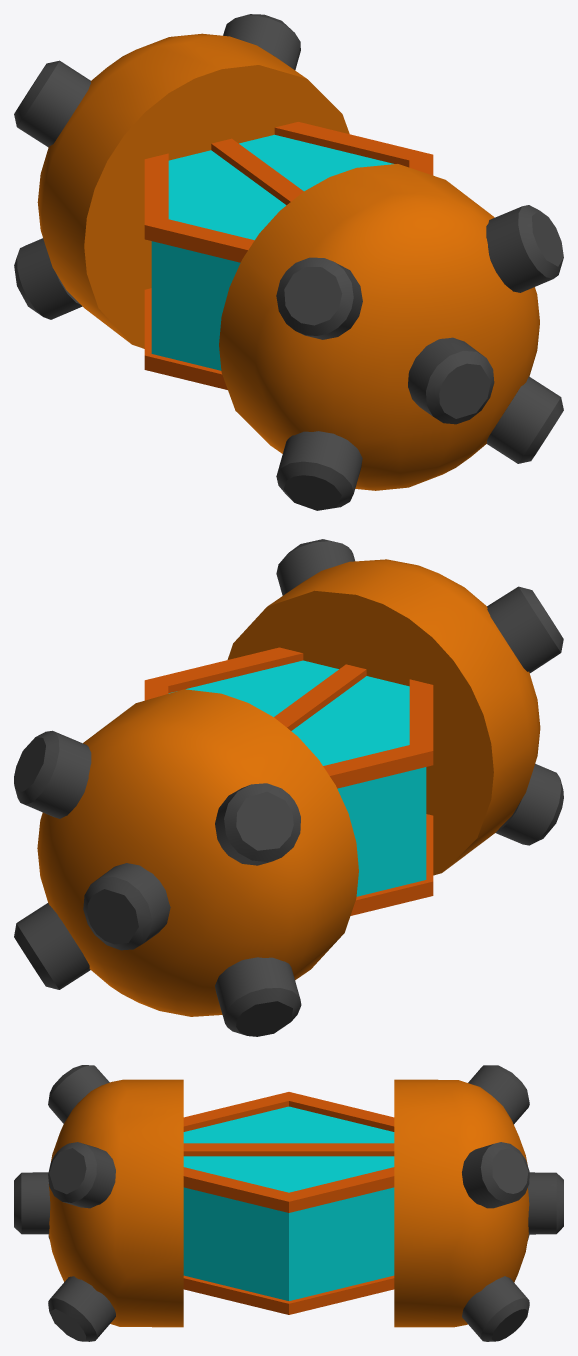
File: Bomb.glb
3 views of the same model, one above another, from view 1: azimuth 30°, elevation 25°; view 2: azimuth 150°, elevation 25°; view 3: azimuth 270°, elevation 25° (orthographic). The views are drawn at different scales.
Parts seen in each view (by area): view 1: bomb; view 2: bomb; view 3: bomb.
Part boxes in pixels (x1=…): bomb: x1=14, y1=14, x2=563, y2=510; bomb: x1=14, y1=539, x2=563, y2=1036; bomb: x1=14, y1=1065, x2=563, y2=1341.
Bounding box in the file's own units: 1.05 × 1 × 2.22.
